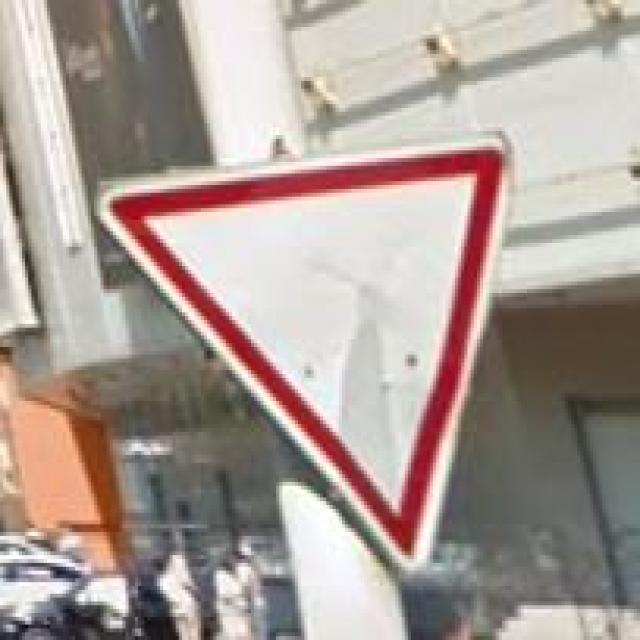give_way: (94, 131, 518, 578)
